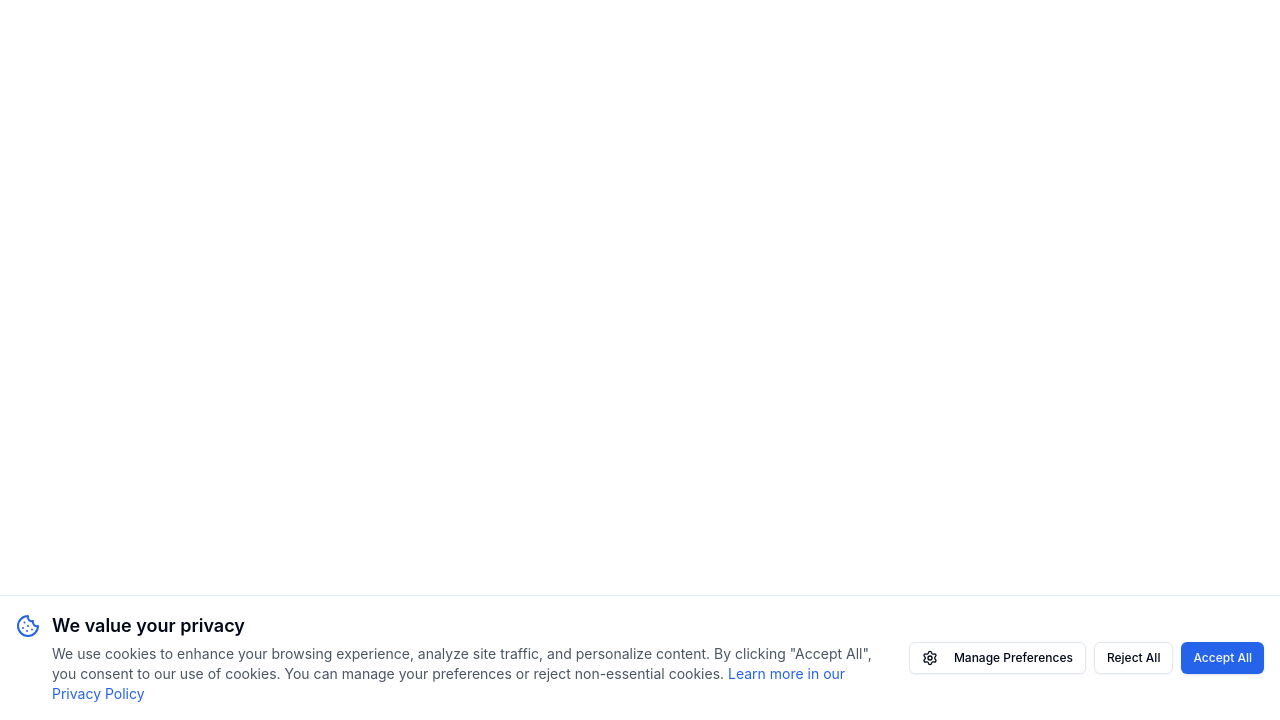
Test: CookieConsent › should show preferences panel when manage preferences clicked
Step 1. Click the button with test id "manage-preferences-btn" → click(997, 658), box [909,642,1086,674]
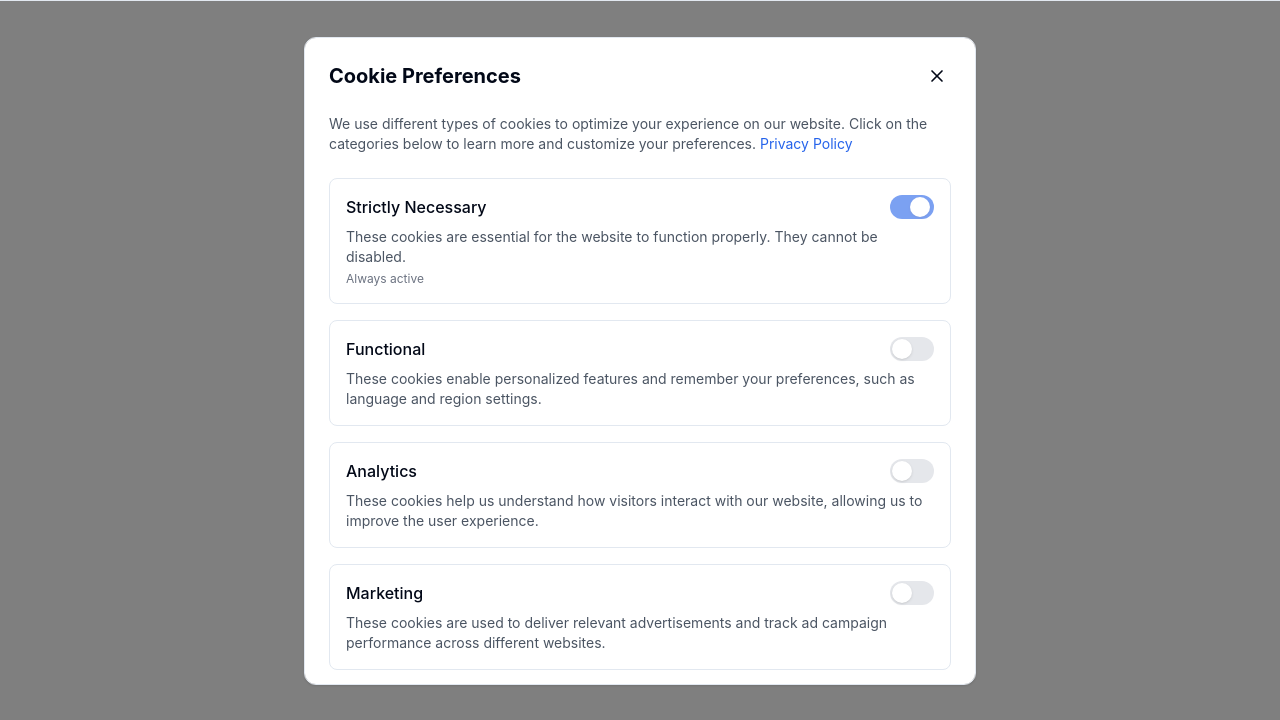
Expected: the element with test id "preferences-panel" is shown, [304,36,976,684]
